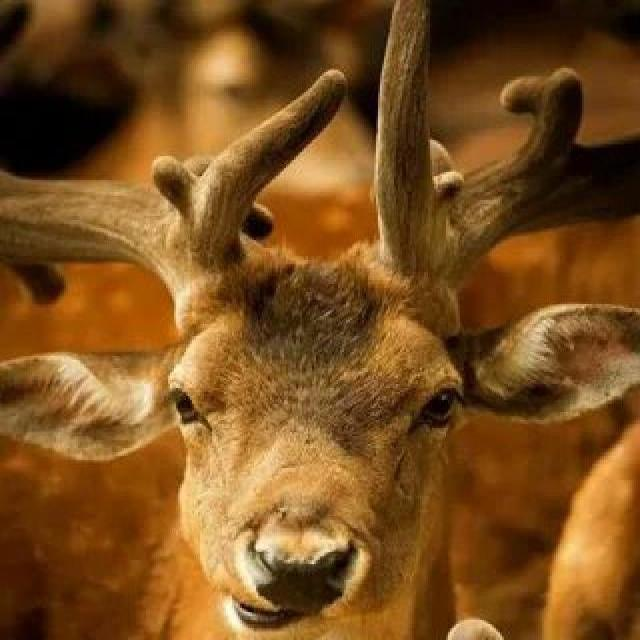deer: (56, 98, 625, 640)
